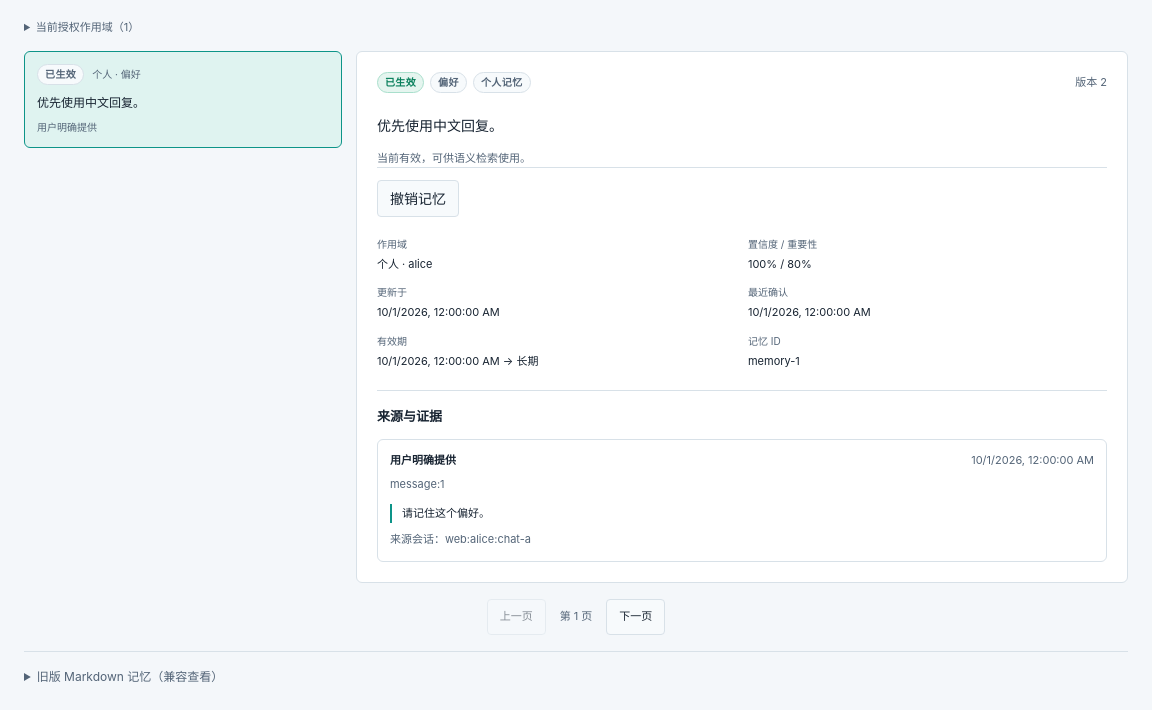
Test: semantic memory console › reports scope totals and moves pages without confusing totals with the current page
(page scrolled)
expect the element named "记忆详情" is shown: met, box [356,51,1128,582]
expect the button "上一页" is disabled: met, box [487,598,546,634]
Click the button "下一页" at [636, 616], box [606,598,665,634]
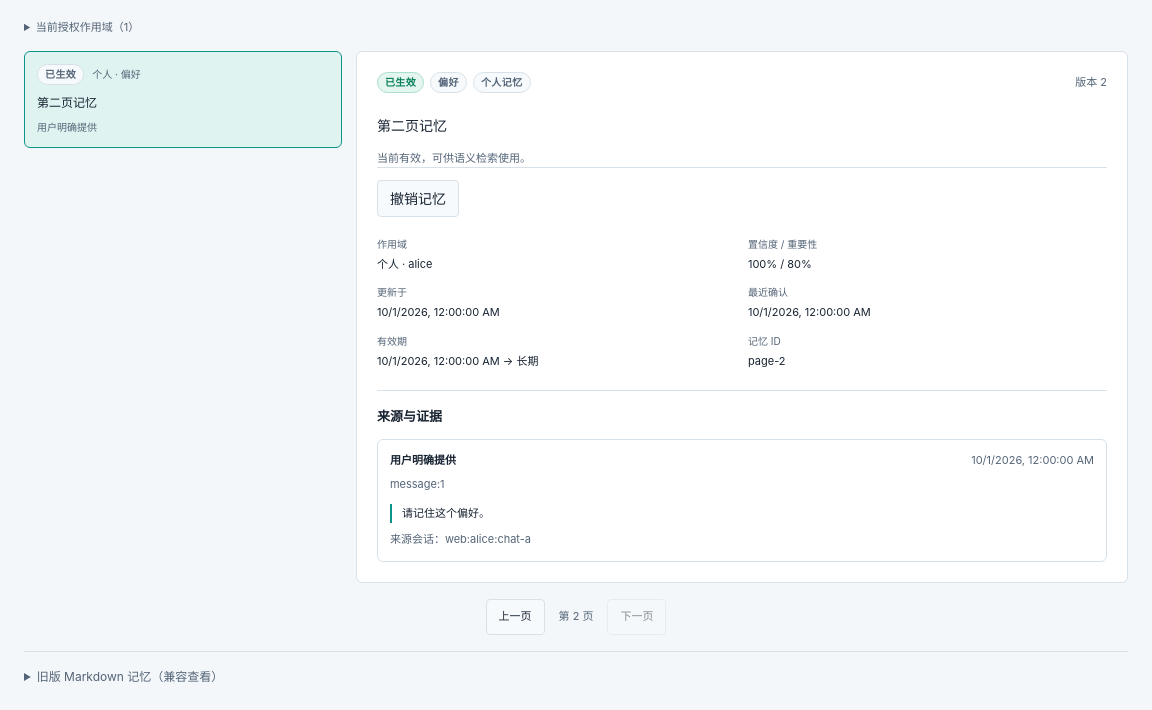
expect the element named "记忆详情" shows "第二页记忆": met, box [377,117,447,134]
expect the text "第 2 页" is shown: met, box [558,608,593,625]
expect the button "下一页" is disabled: met, box [608,598,666,634]
